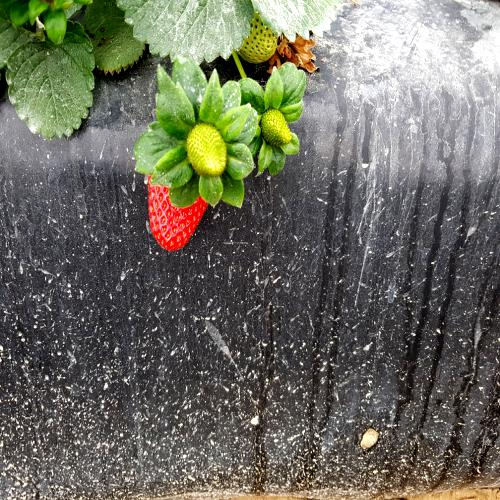ripe: (145, 139, 211, 264)
